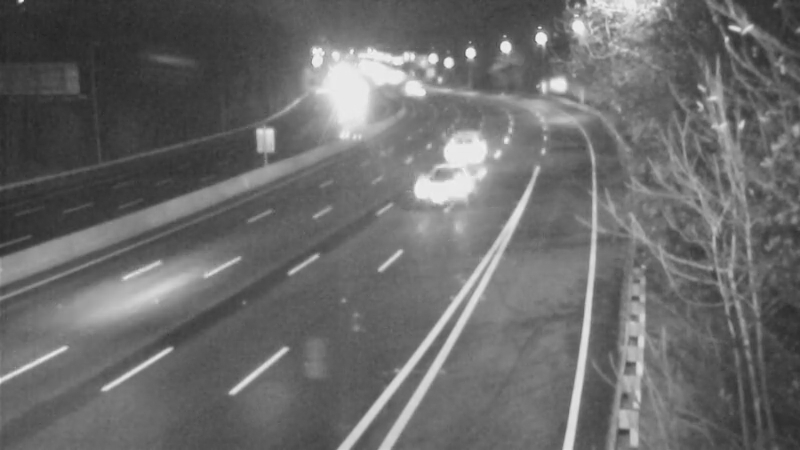vehicle: (390, 148, 470, 228), (391, 65, 441, 115), (437, 124, 487, 174)
